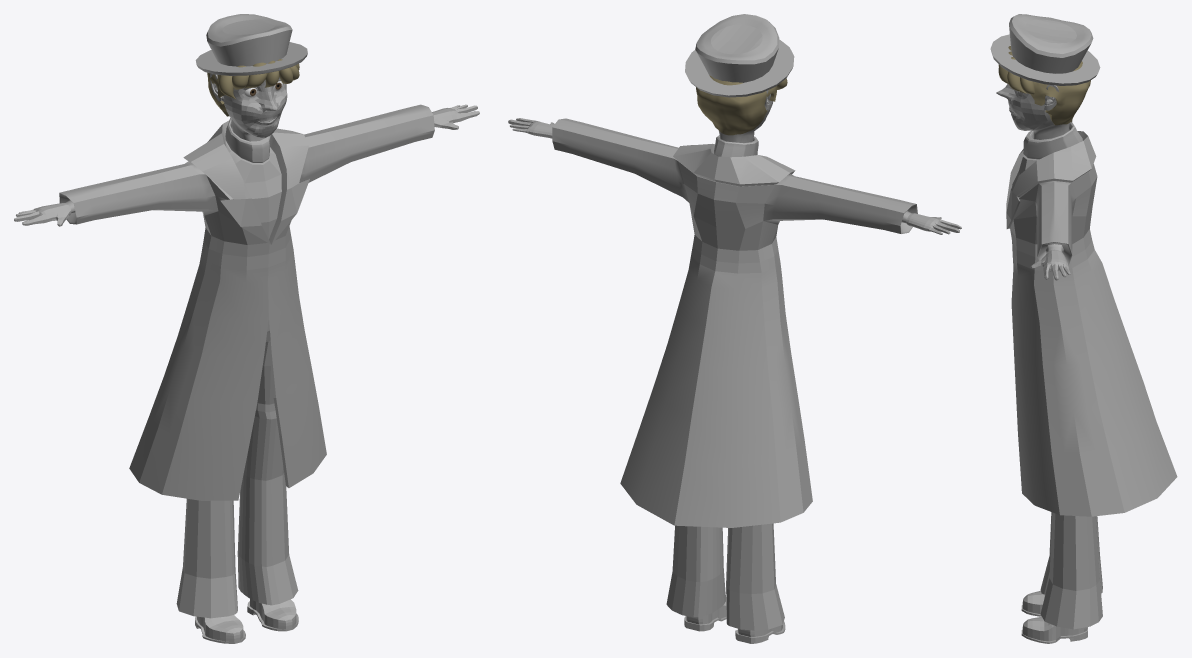
The model's file is CHAR_Killer002_AOR.fbx.
The picture shows the model from 3 angles, left to right: view 1: azimuth 30°, elevation 25°; view 2: azimuth 150°, elevation 25°; view 3: azimuth 270°, elevation 25°; orthographic projection. The views are drawn at different scales.
Parts seen in each view (by area): view 1: Killer_Body, Killer_Hat, Killer_Face_Base; view 2: Killer_Body, Killer_Hat, Scalp; view 3: Killer_Body, Killer_Hat, Killer_Face_Base, Scalp.
Boxes of the visible parts, x1=… form: Killer_Body: x1=14, y1=104, x2=479, y2=643; Killer_Hat: x1=195, y1=14, x2=307, y2=75; Killer_Face_Base: x1=210, y1=73, x2=287, y2=141; Killer_Body: x1=508, y1=118, x2=961, y2=643; Killer_Hat: x1=685, y1=14, x2=794, y2=97; Scalp: x1=696, y1=75, x2=777, y2=135; Killer_Body: x1=1006, y1=121, x2=1177, y2=643; Killer_Hat: x1=990, y1=14, x2=1100, y2=85; Killer_Face_Base: x1=996, y1=84, x2=1069, y2=139; Scalp: x1=1031, y1=61, x2=1090, y2=125.
Size of the model in its own units: 1.57 by 1.97 by 0.5569.
